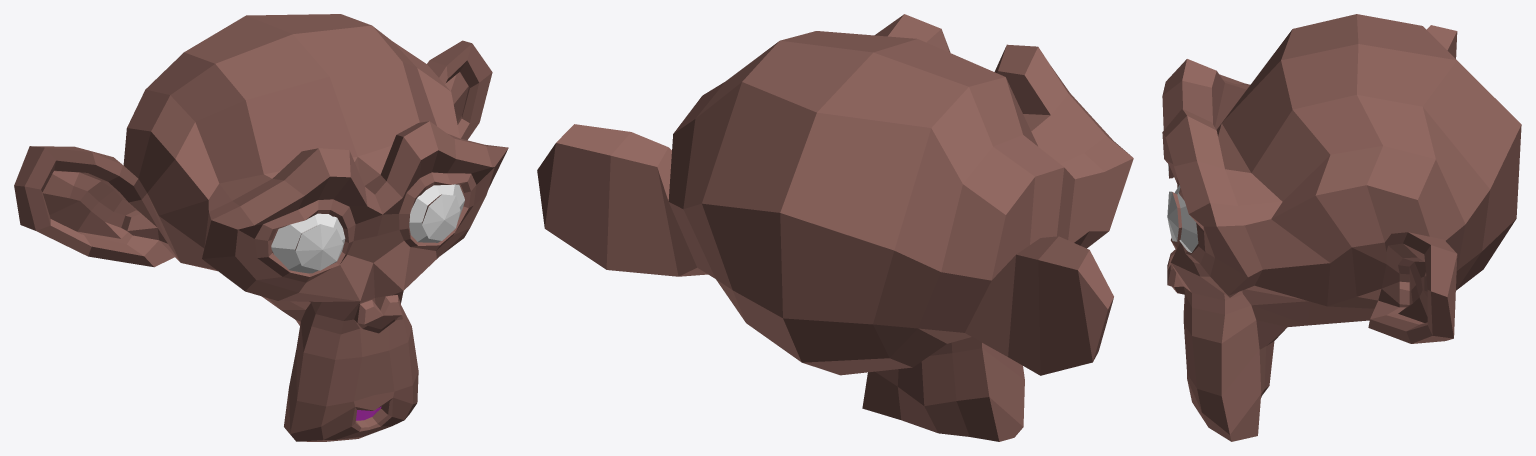
Rendered from monkey.glb.
3 views of the same model, side by side, from view 1: azimuth 30°, elevation 25°; view 2: azimuth 150°, elevation 25°; view 3: azimuth 270°, elevation 25° (orthographic). The views are drawn at different scales.
Visible parts, largest first — view 1: Suzanne; view 2: Suzanne; view 3: Suzanne.
Boxes of the visible parts, x1,y1,x2,y2 form: Suzanne: (14,14,508,441); Suzanne: (537,14,1133,441); Suzanne: (1162,14,1521,441).
Bounding box in the file's own units: 2.73 × 1.97 × 1.7.
